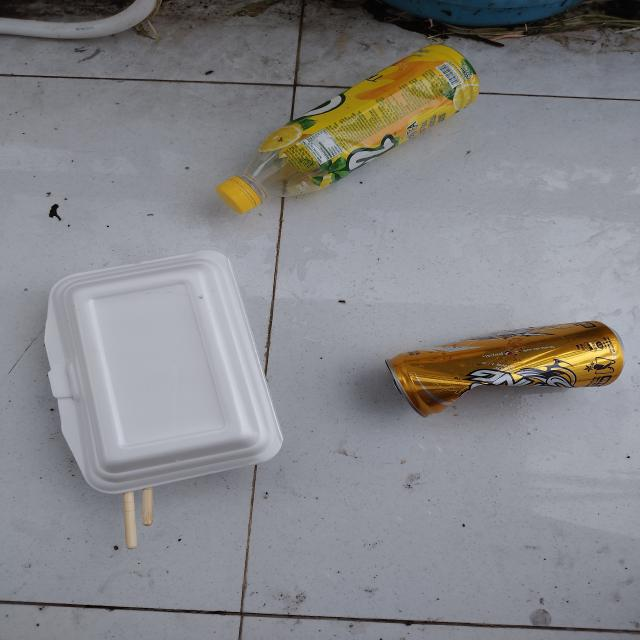bottle: (216, 43, 479, 214)
can: (385, 321, 624, 418)
foam box: (44, 250, 284, 495)
